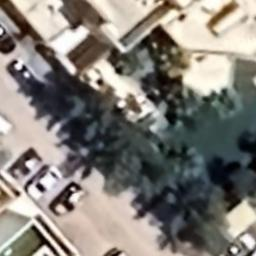sedan: (28, 164, 62, 200), (54, 185, 86, 215), (12, 153, 43, 182)
